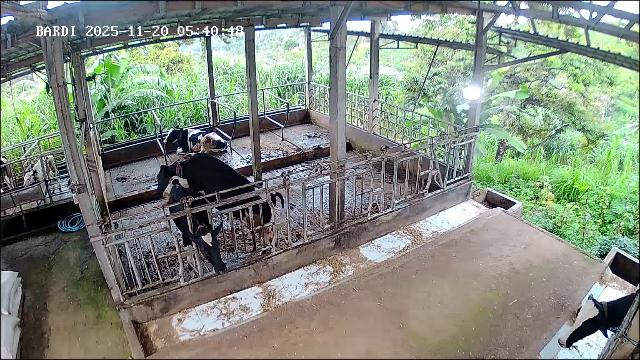mounting: (156, 154, 284, 250)
